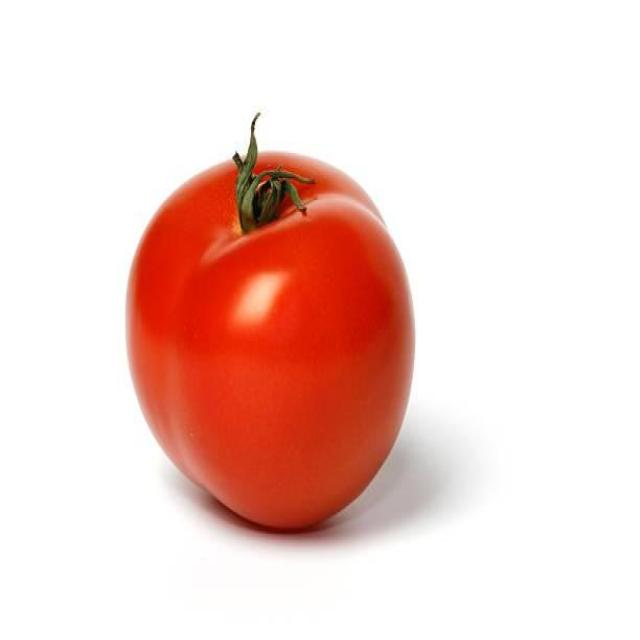Tomato: (128, 125, 414, 530)
